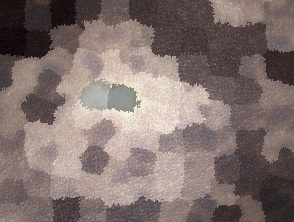vitiligo: (32, 25, 203, 192)
